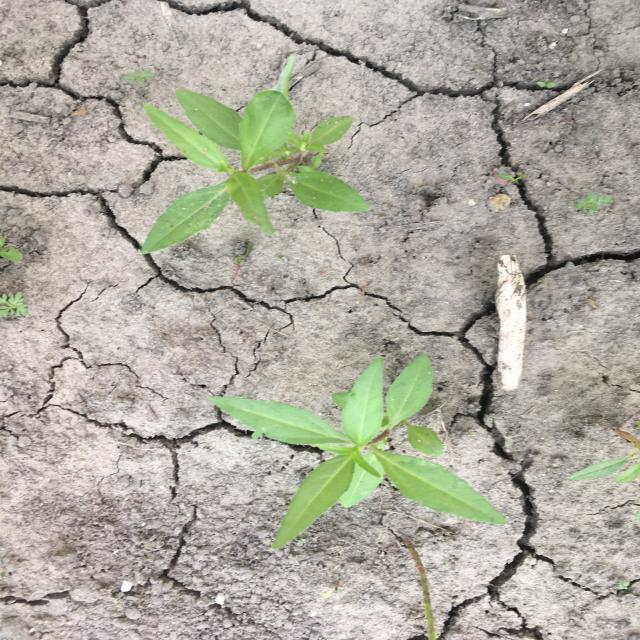Eclipta: (204, 350, 509, 552), (137, 52, 374, 257)
Ragweed: (1, 292, 30, 324)
